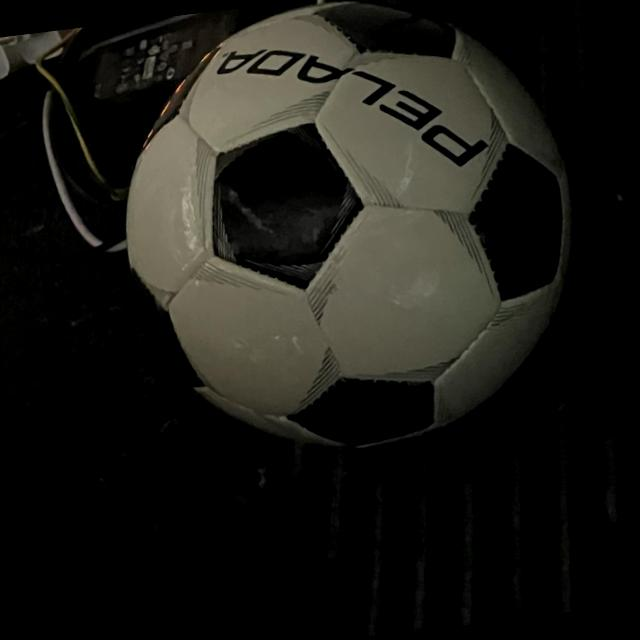Soccer Ball: (99, 0, 600, 475)
